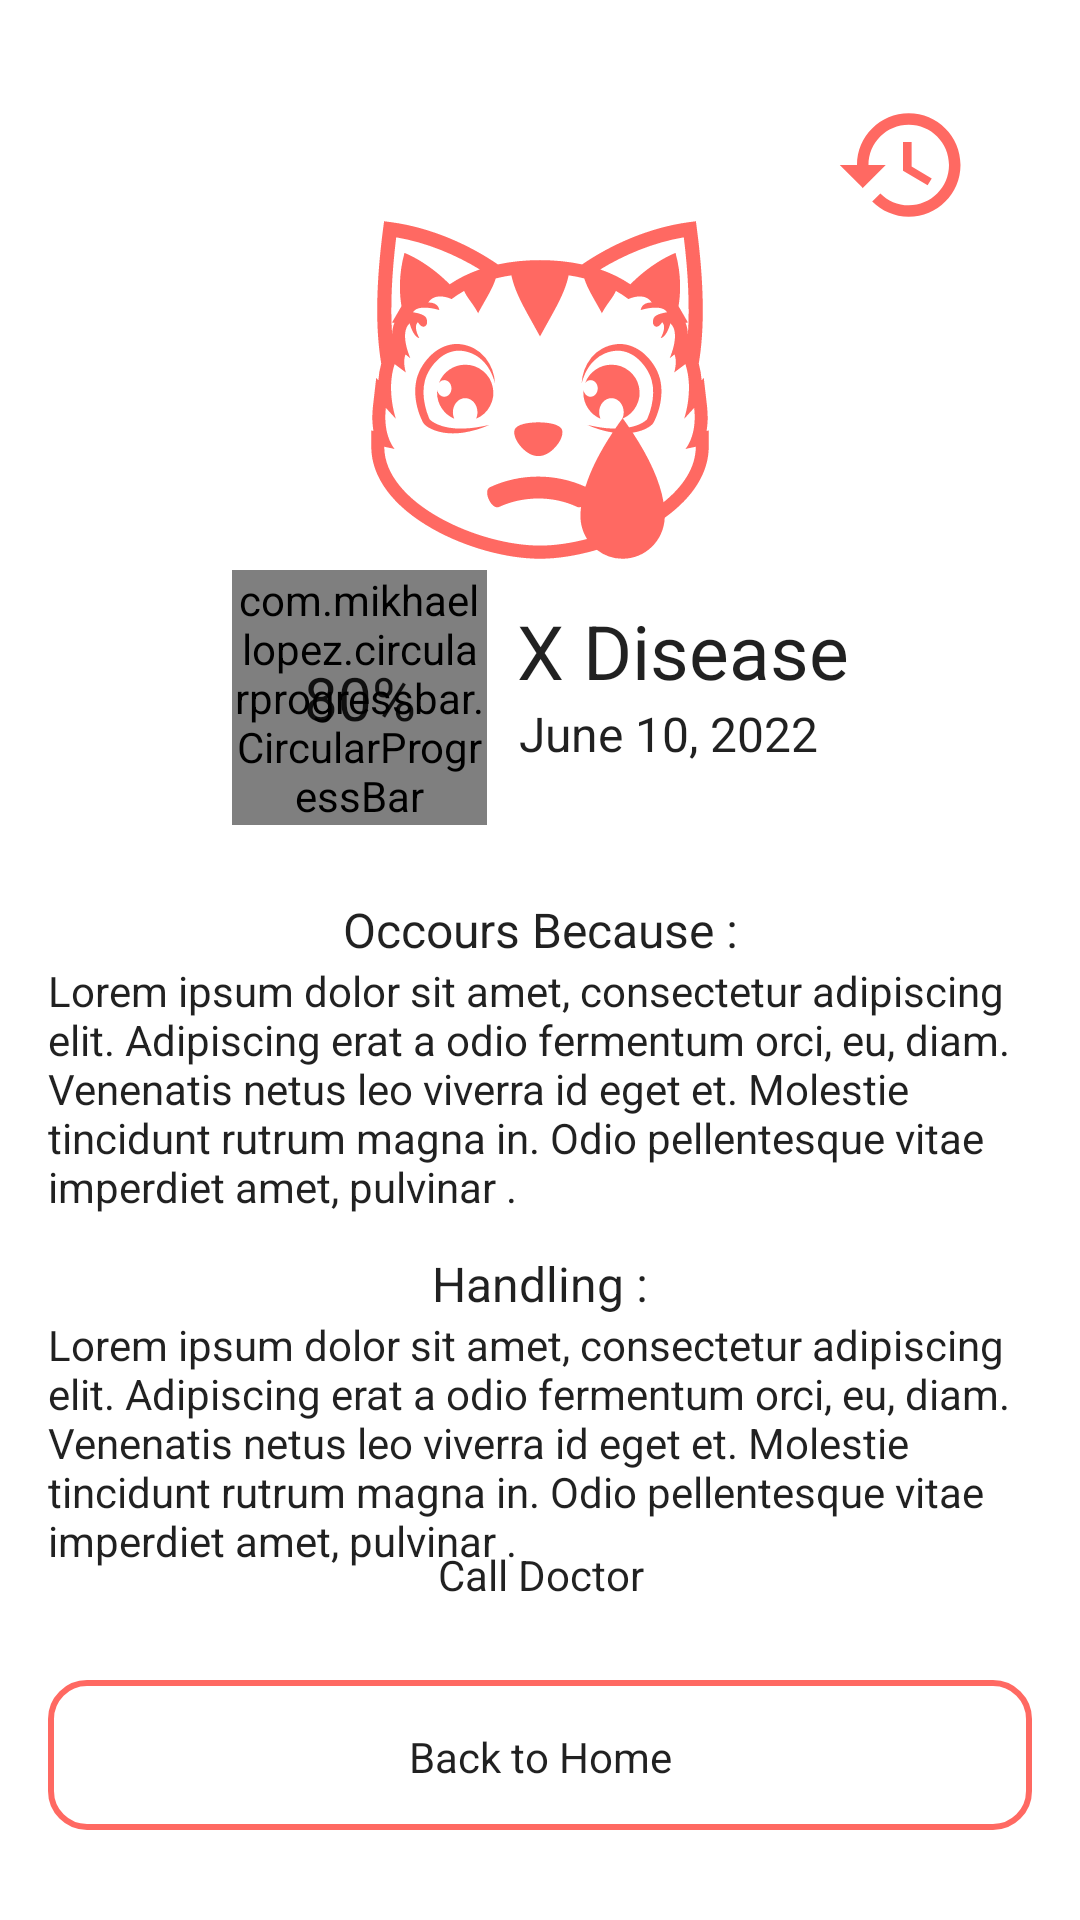

Icons on this 1080×1920 Android screen, each with the point to tap as point (x, y):
history: point (900, 165)
sad cat face: point (540, 390)
